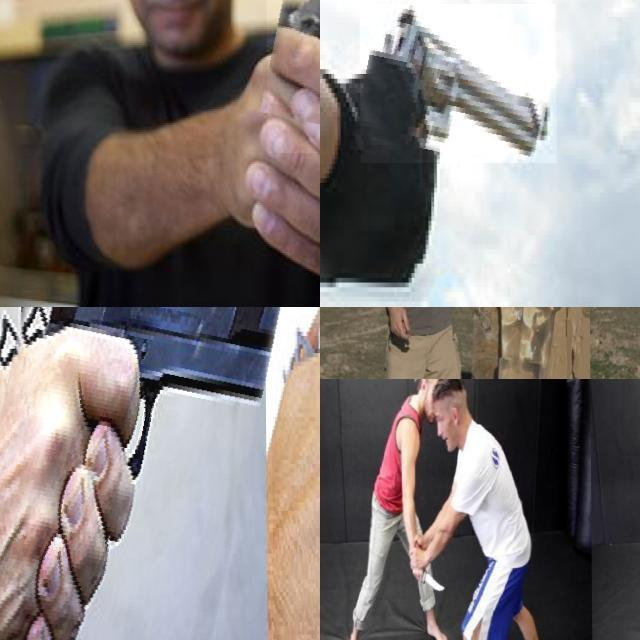-: (490, 307, 525, 340), (408, 567, 445, 594)
gun-knife-thesis - v11 Yolov5 augmented: (0, 307, 273, 640), (359, 4, 556, 163)
